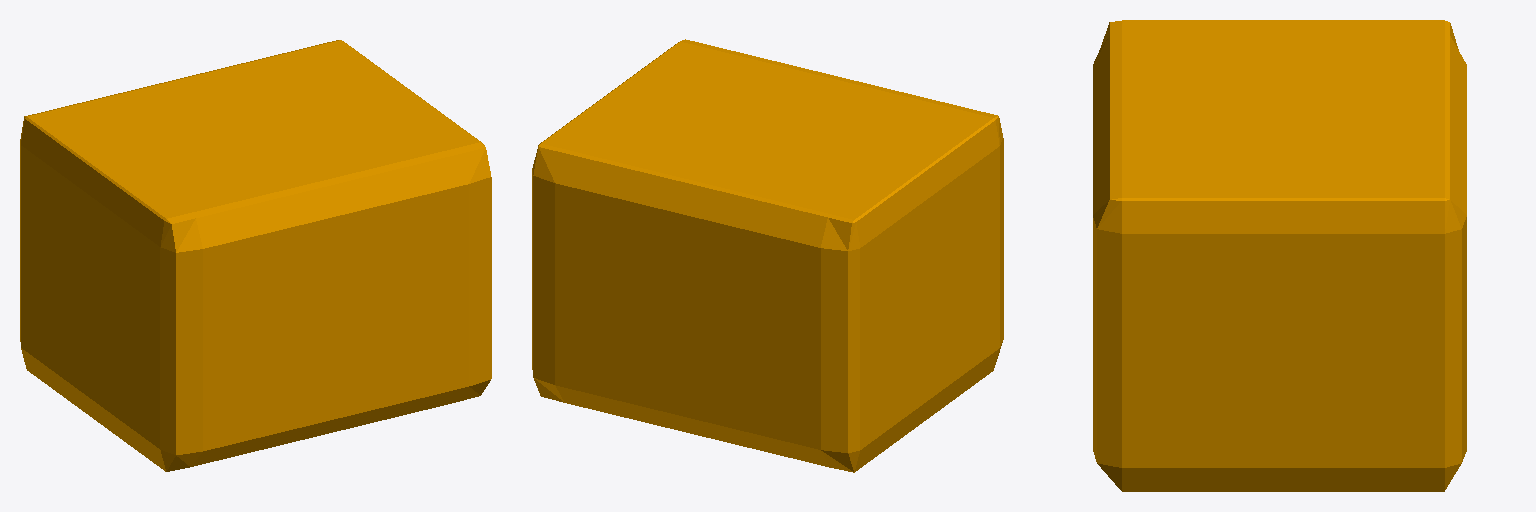
URDF robot description (cylinder_box_92):
<?xml version="1.0" encoding="utf-8"?>  <robot name="cylinder_box_92">   <link name="cylinder_box_92">     <visual>       <geometry>         <mesh filename="../meshes/box/box_92.stl" scale="1 1 1"/>       </geometry>     </visual>     <collision>       <geometry>         <mesh filename="../meshes/box/box_92.stl" scale="1 1 1"/>       </geometry>     </collision>     <inertial>        <origin         xyz="0 0 0"         rpy="0 0 0" />       <mass value="0.19369473489957065"/>       <origin rpy="0 0 0" xyz="0 0 0"/>       <inertia ixx="9.228661444731165e-05" ixy="-1.4451660731889758e-08" ixz="5.973170486690336e-09" iyy="0.00011299833409925914" iyz="9.09712655020902e-08" izz="0.00012582617820921645"/>     </inertial>   </link>  </robot>

--- What the picture shows (computed from the rendered views, not written in the file) ---
Views: 3 orthographic renders of the robot side by side, from view 1: azimuth 30°, elevation 25°; view 2: azimuth 150°, elevation 25°; view 3: azimuth 270°, elevation 25°.
Robot: cylinder_box_92 — 1 links, 0 joints (none); root link cylinder_box_92; default pose: every joint at zero.
Visible links, largest first — view 1: cylinder_box_92; view 2: cylinder_box_92; view 3: cylinder_box_92.
Link boxes in pixels (x1,y1,x2,y2): cylinder_box_92: (20,40,491,471); cylinder_box_92: (532,39,1003,472); cylinder_box_92: (1093,20,1466,491).
Bounding box of the posed robot: 0.0679 × 0.058 × 0.0502 m (x, y, z).
1 mesh visuals loaded from 1 distinct referenced files (1 binary STL).